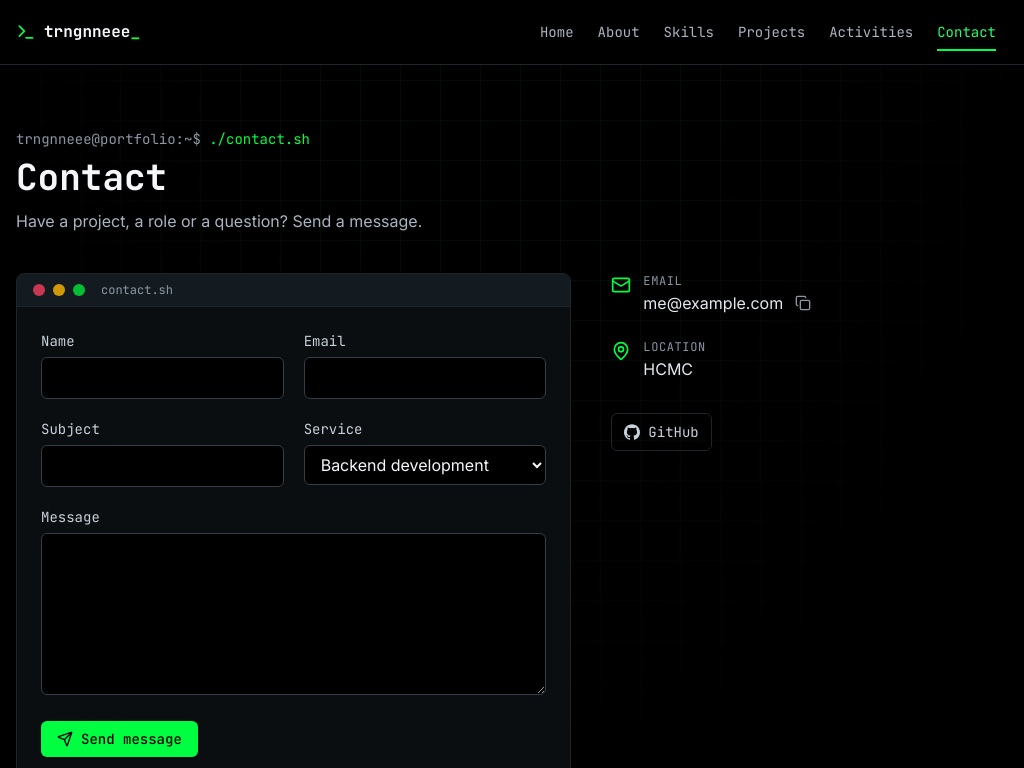
contact form › submits valid input with an empty honeypot
The width and height of the screenshot is (1024, 768).
Type "Alice" into the field labelled "Name".
click(162, 378); type("Alice")  # box top-left (41, 357), bottom-right (284, 399)
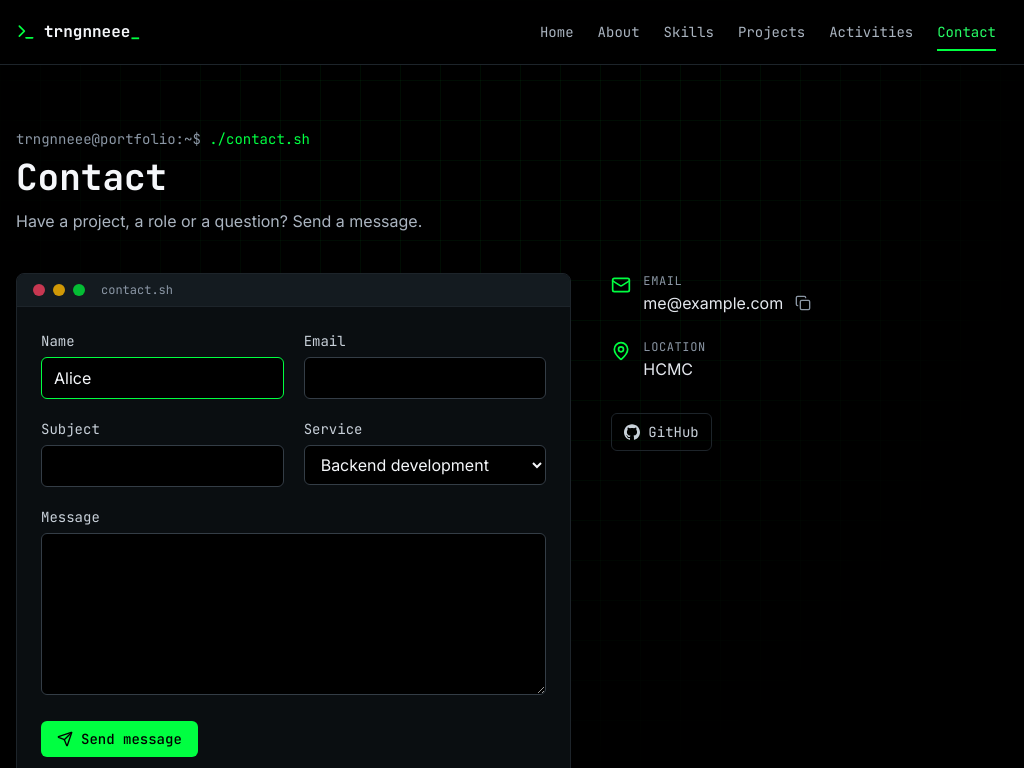
Type "alice@example.com" into the field labelled "Email".
click(425, 378); type("alice@example.com")  # box top-left (304, 357), bottom-right (546, 399)
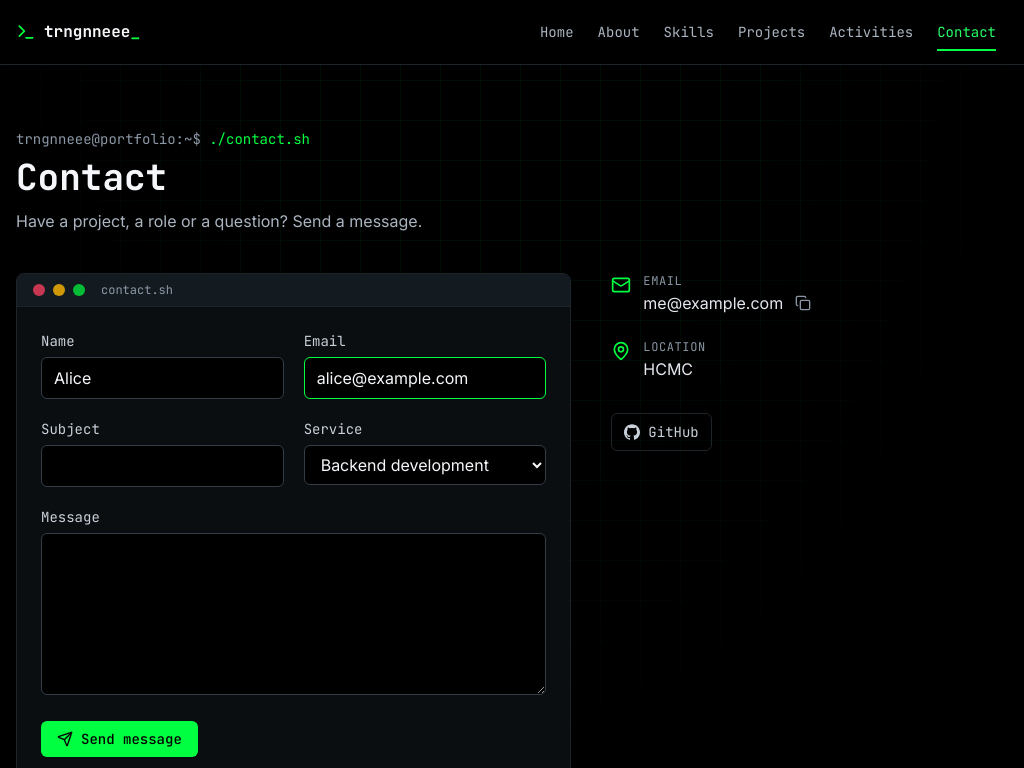
Type "Hello there" into the field labelled "Subject".
click(162, 466); type("Hello there")  # box top-left (41, 445), bottom-right (284, 487)
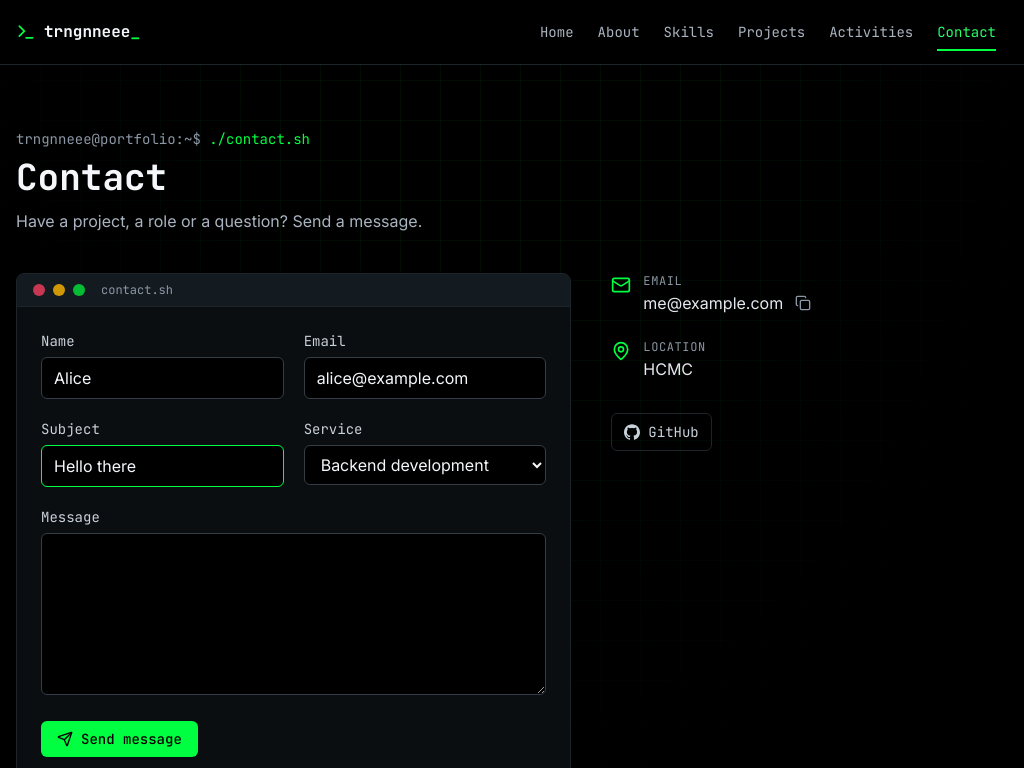
Type "Let's build something together." into the text box labelled "Message".
click(294, 614); type("Let's build something together.")  # box top-left (41, 533), bottom-right (546, 695)
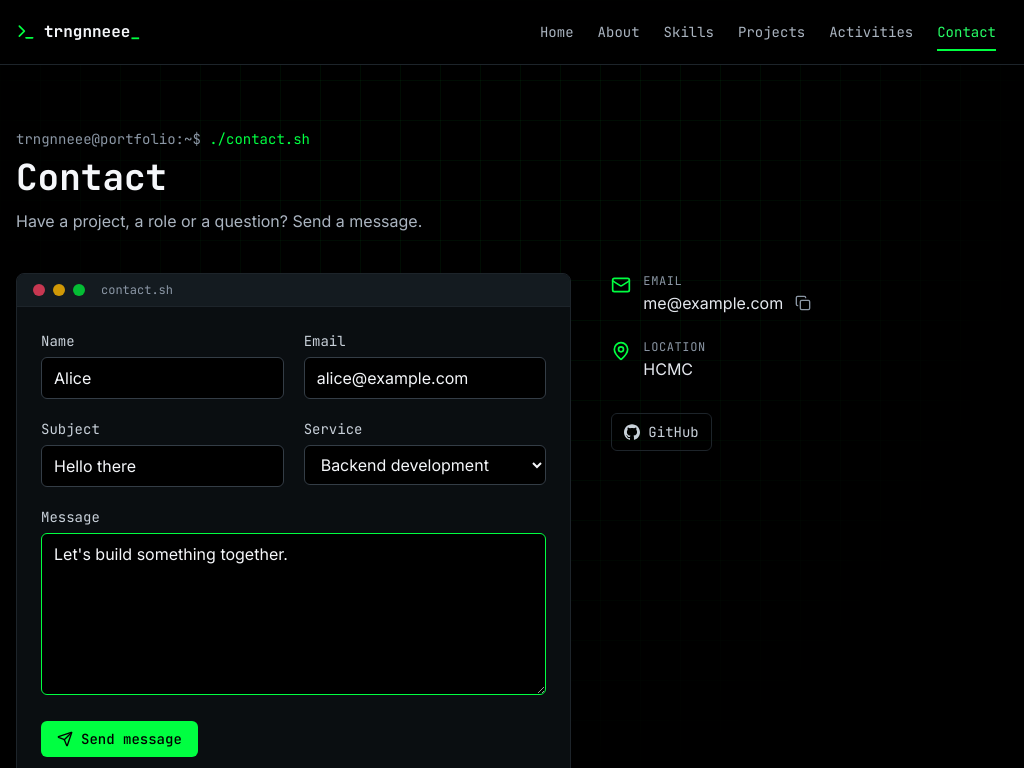
Click the button "Send message".
click(119, 739)  # box top-left (41, 721), bottom-right (198, 757)
(page scrolled)
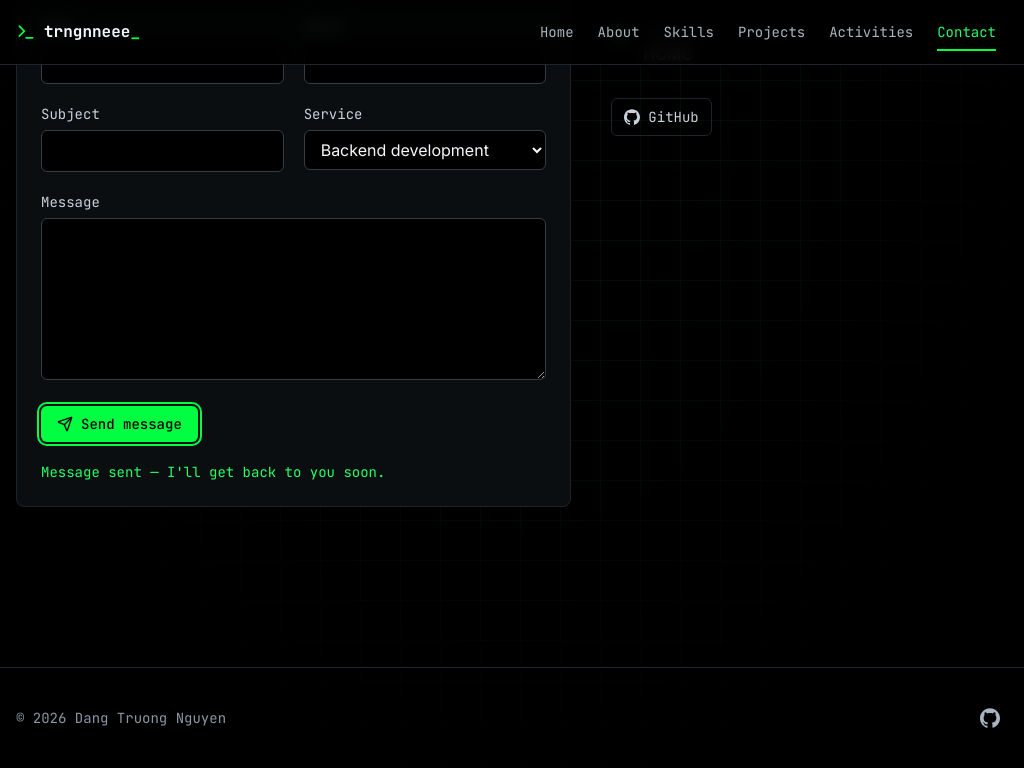
Check: the message "Message sent — I'll get back to you soon." is shown, box top-left (41, 463), bottom-right (385, 481)
